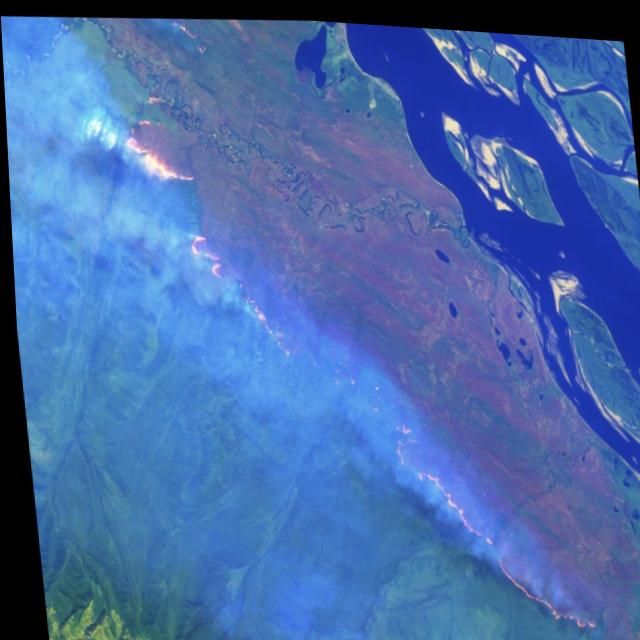fire: (105, 6, 640, 640)
